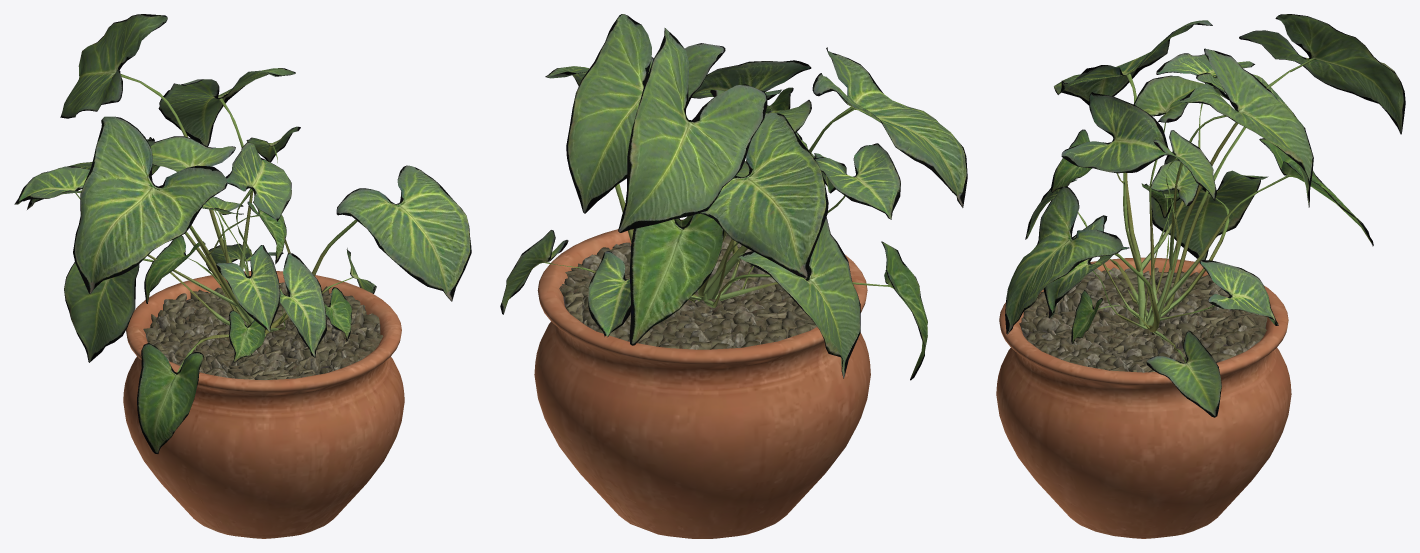
Rendered from potted_plant_02.glb.
3 views of the same model, side by side, from view 1: azimuth 30°, elevation 25°; view 2: azimuth 150°, elevation 25°; view 3: azimuth 270°, elevation 25° (orthographic). The views are drawn at different scales.
Visible parts, largest first — view 1: potted_plant_02_leaves, potted_plant_02_pot; view 2: potted_plant_02_leaves, potted_plant_02_pot; view 3: potted_plant_02_pot, potted_plant_02_leaves.
Part boxes in pixels (<box>): potted_plant_02_leaves: <box>14,14,471,453</box>; potted_plant_02_pot: <box>123,271,404,538</box>; potted_plant_02_leaves: <box>500,14,967,380</box>; potted_plant_02_pot: <box>534,219,870,538</box>; potted_plant_02_pot: <box>996,257,1291,538</box>; potted_plant_02_leaves: <box>1005,14,1405,417</box>.
Size of the model in its own units: 0.7009 by 0.8411 by 0.6574.
2 materials, 2 textured.
